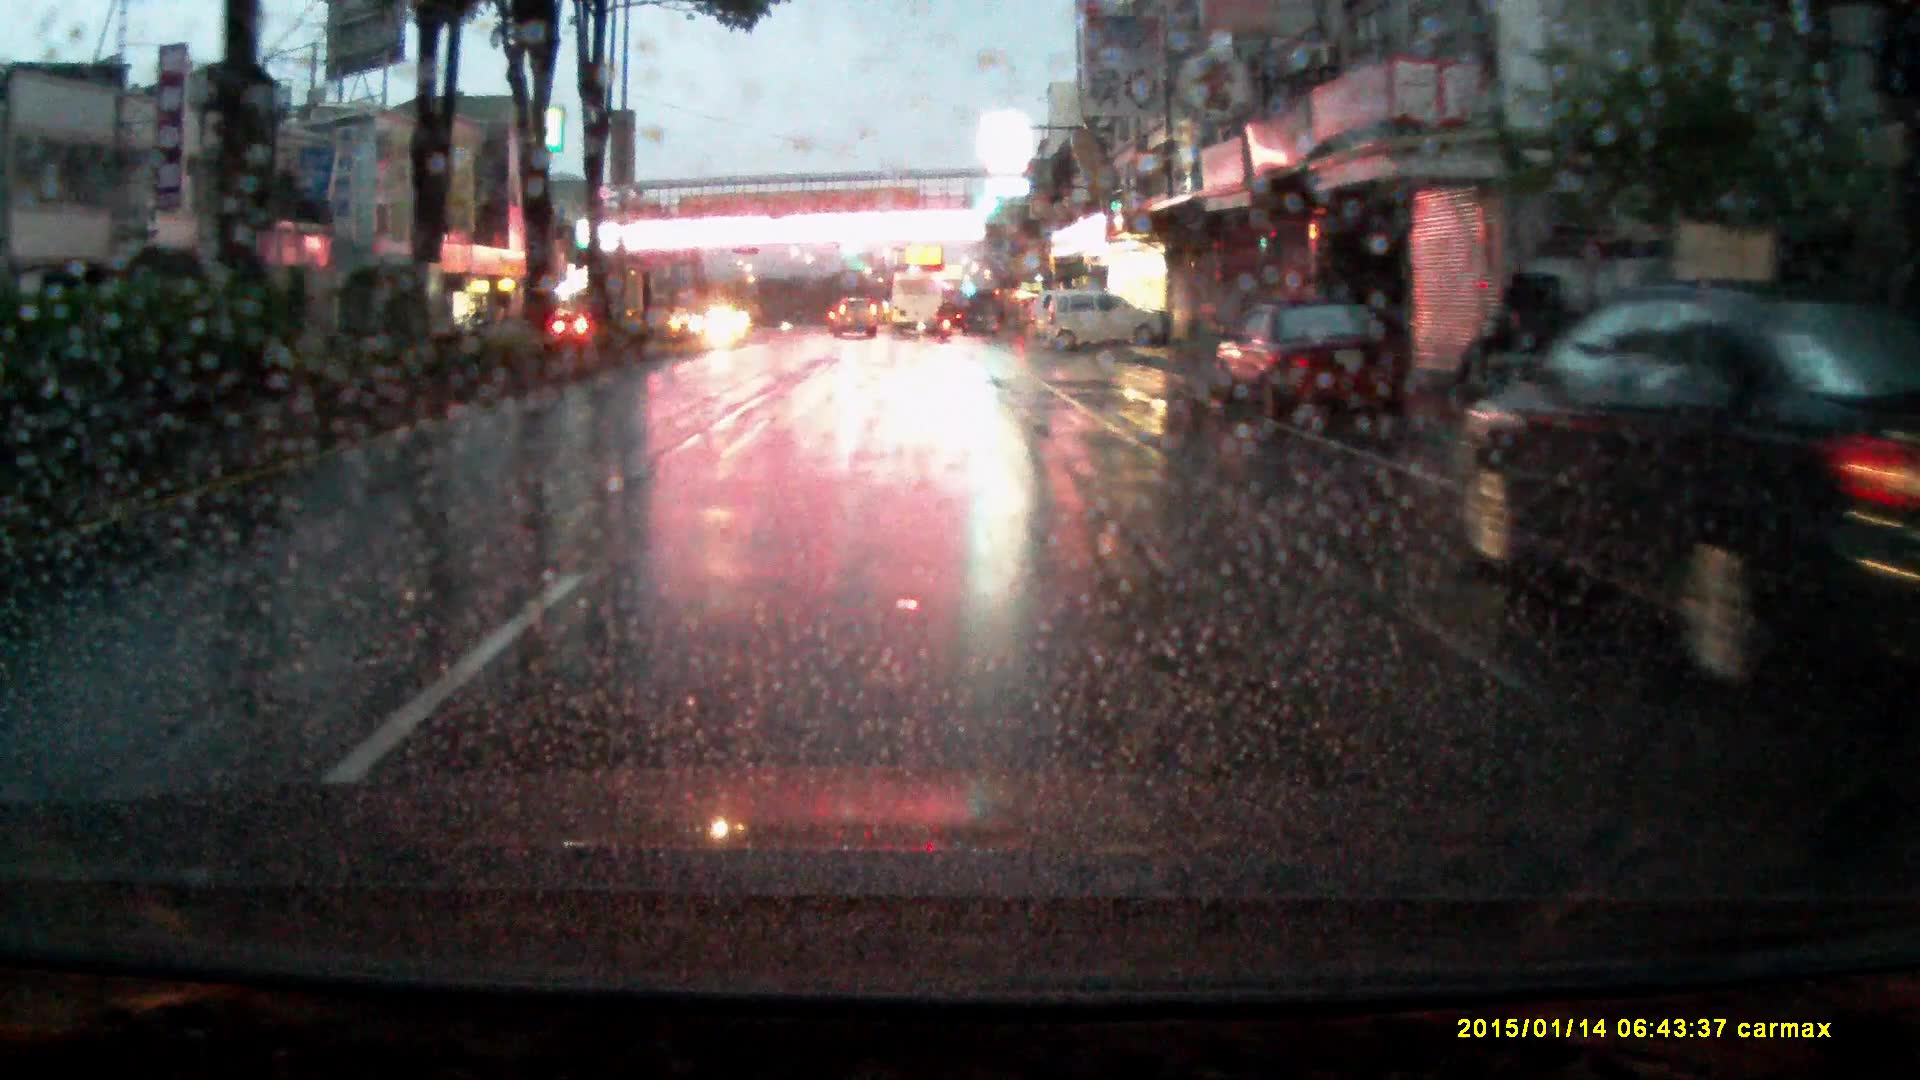vehicle: (1441, 276, 1920, 707), (1217, 303, 1425, 435), (1046, 291, 1166, 353), (890, 272, 944, 334), (833, 295, 880, 338), (1027, 293, 1058, 340)
